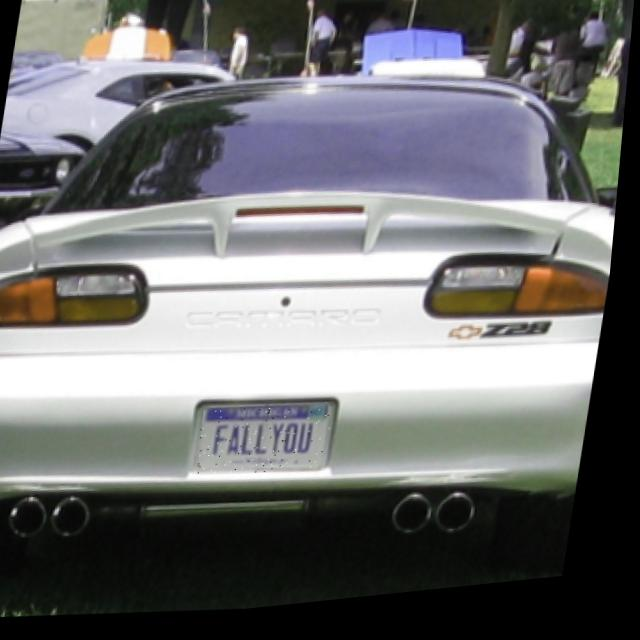license_plate: (202, 405, 343, 489)
